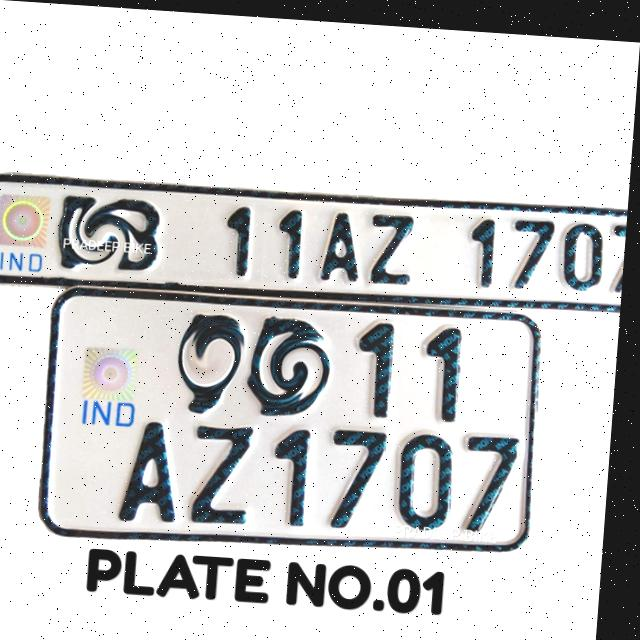plate: (42, 285, 553, 559), (0, 170, 630, 307)
